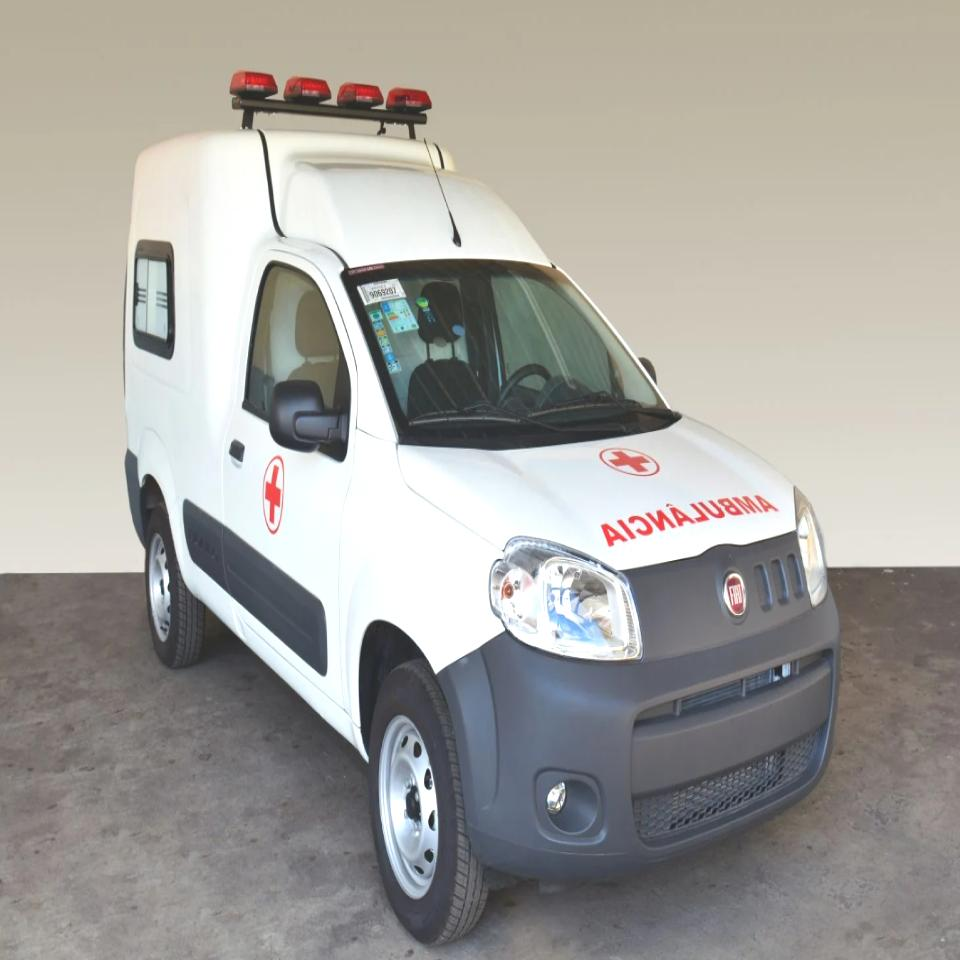ambulancia: (124, 69, 840, 944)
